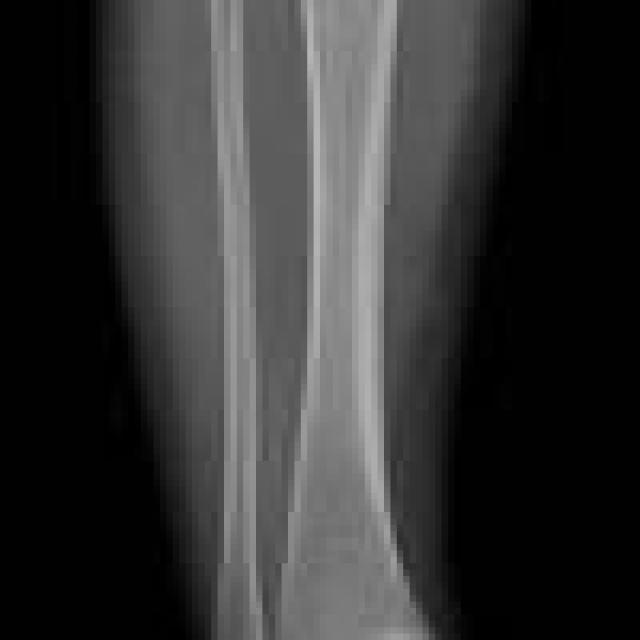Spiral: (263, 21, 421, 134)
